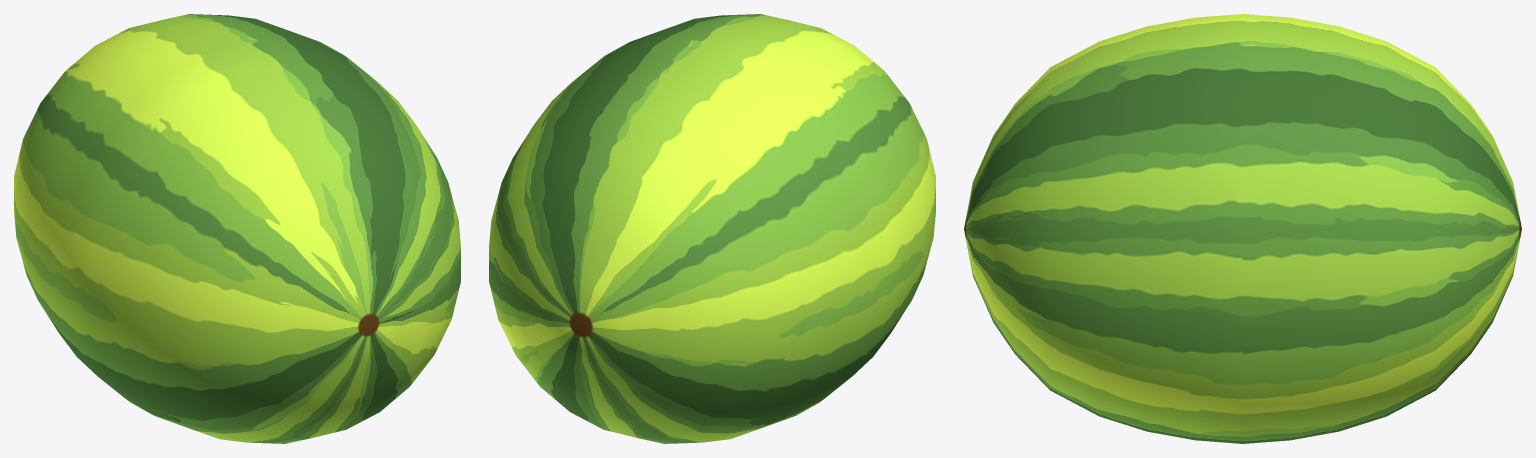
Rendered from fruit4.glb.
3 views of the same model, side by side, from view 1: azimuth 30°, elevation 25°; view 2: azimuth 150°, elevation 25°; view 3: azimuth 270°, elevation 25° (orthographic). The views are drawn at different scales.
Parts seen in each view (by area): view 1: Watermelon_Full; view 2: Watermelon_Full; view 3: Watermelon_Full.
Boxes of the visible parts, x1,y1,x2,y2 form: Watermelon_Full: [14, 14, 460, 443]; Watermelon_Full: [489, 14, 935, 443]; Watermelon_Full: [964, 14, 1521, 443].
Size of the model in its own units: 2.99 by 2.99 by 3.92.
1 material, 1 textured.
